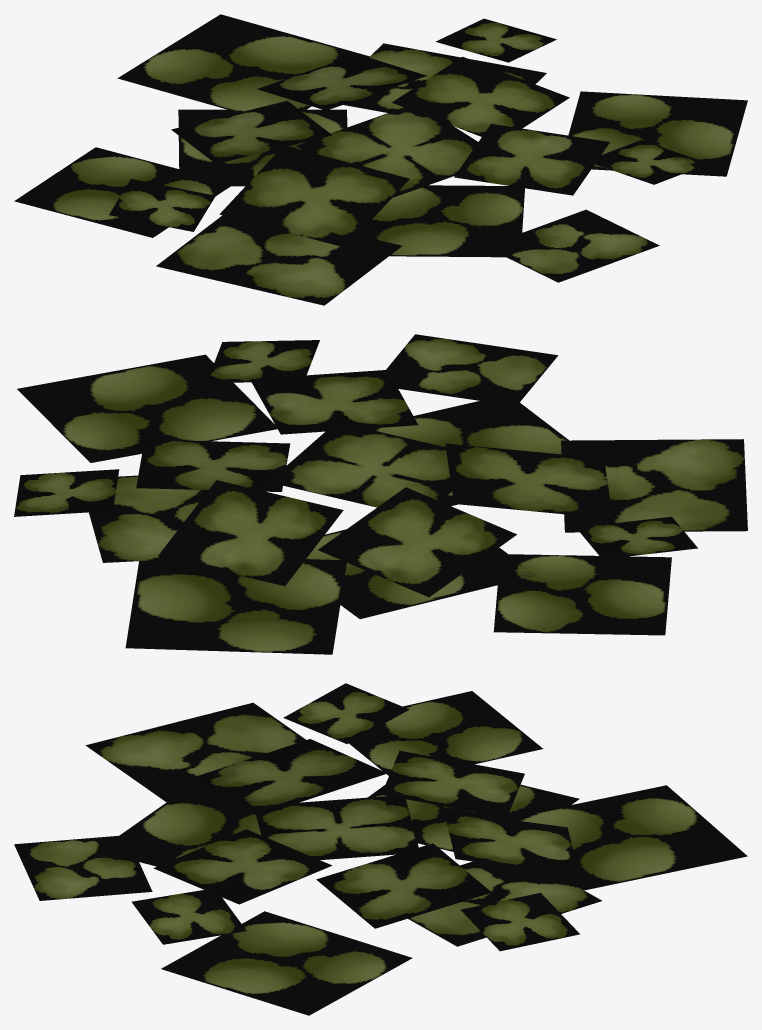
The model's file is GrassVariation.glb.
The picture shows the model from 3 angles, top to bottom: view 1: azimuth 30°, elevation 25°; view 2: azimuth 150°, elevation 25°; view 3: azimuth 270°, elevation 25°; orthographic projection. The views are drawn at different scales.
Visible parts, largest first — view 1: Plane.001; view 2: Plane.001; view 3: Plane.001.
Part boxes in pixels (bbox=[...]): Plane.001: bbox=[14, 14, 747, 305]; Plane.001: bbox=[14, 334, 747, 654]; Plane.001: bbox=[14, 683, 747, 1015].
Size of the model in its own units: 2.36 by 0.1125 by 2.26.
Materials: 1 (1 with a texture image).
